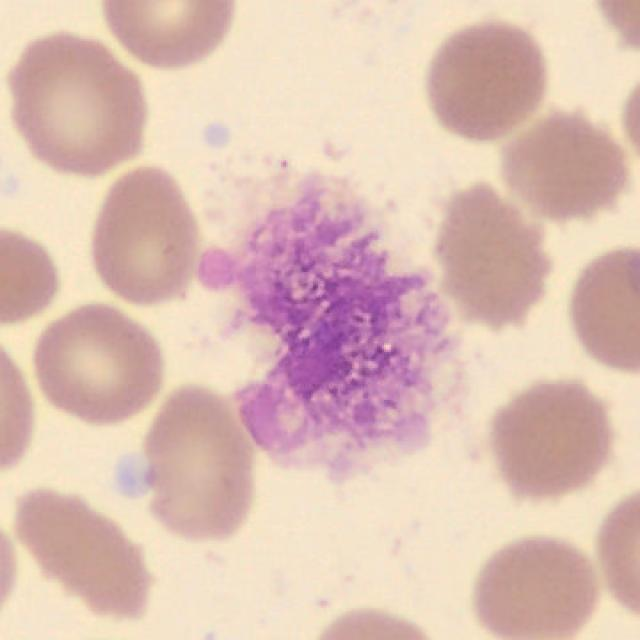Restos celulares: (204, 196, 448, 485)
